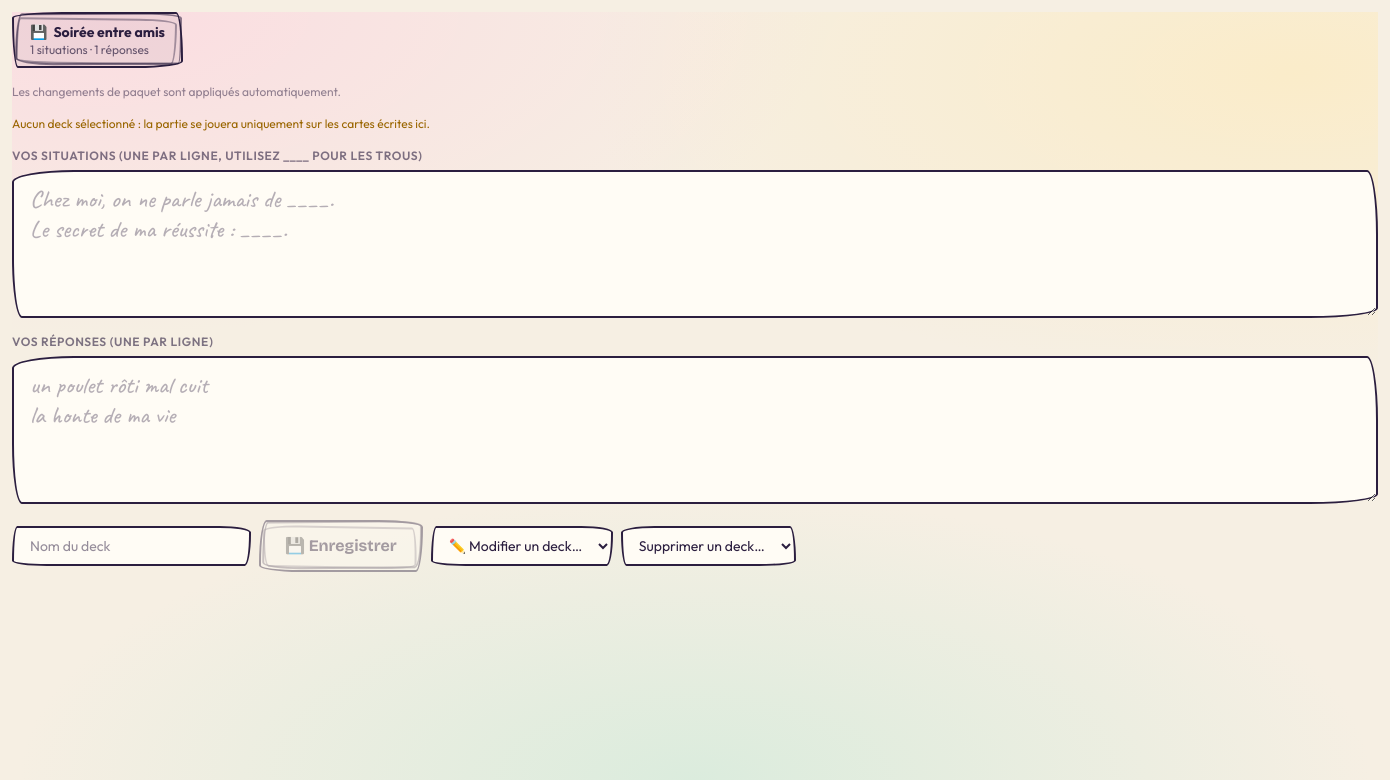
Test: DeckBuilder › keeps the deck when the host backs out
Step 1. Select "Soirée entre amis" in the dropdown named "Supprimer un deck enregistré" → (708, 546), box [621, 526, 796, 566]
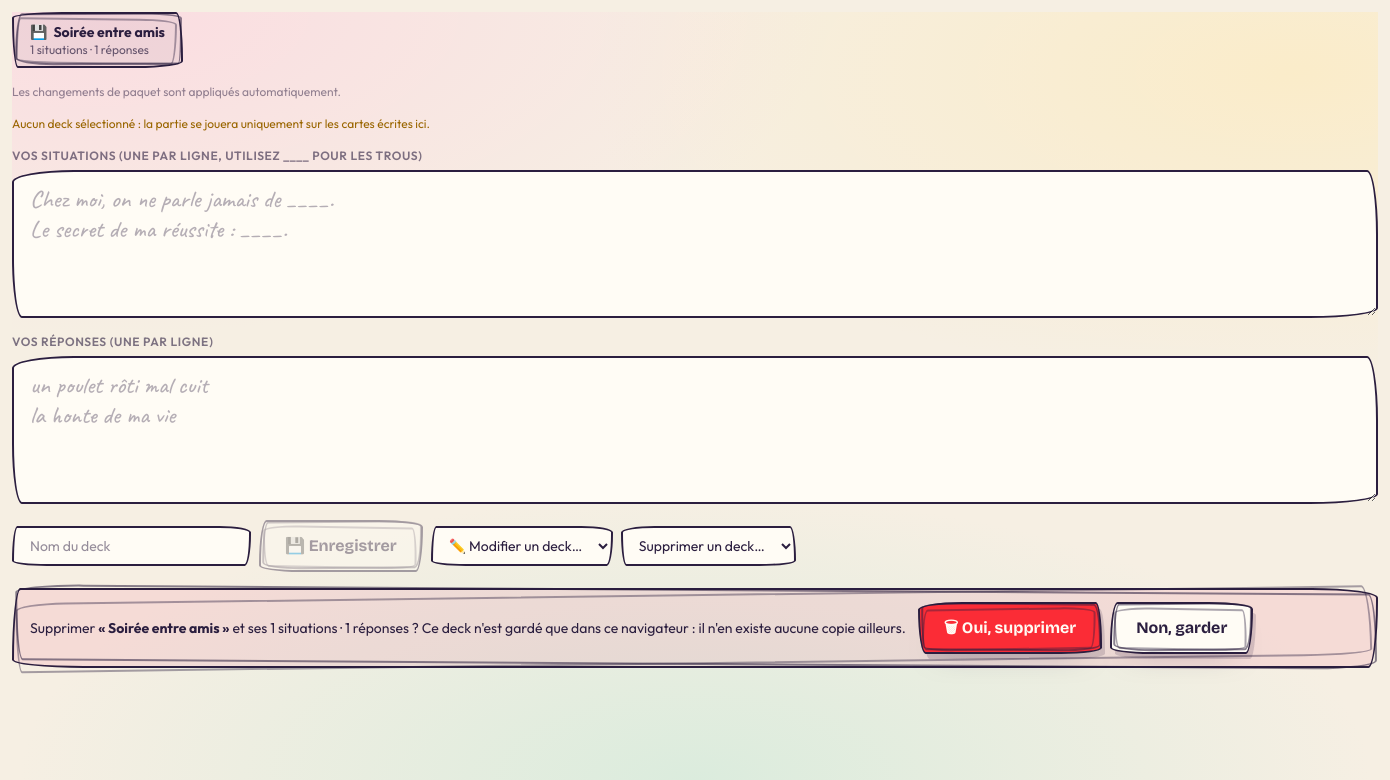
Step 2. Click the button "Non, garder" → (1182, 628), box [1110, 602, 1253, 654]
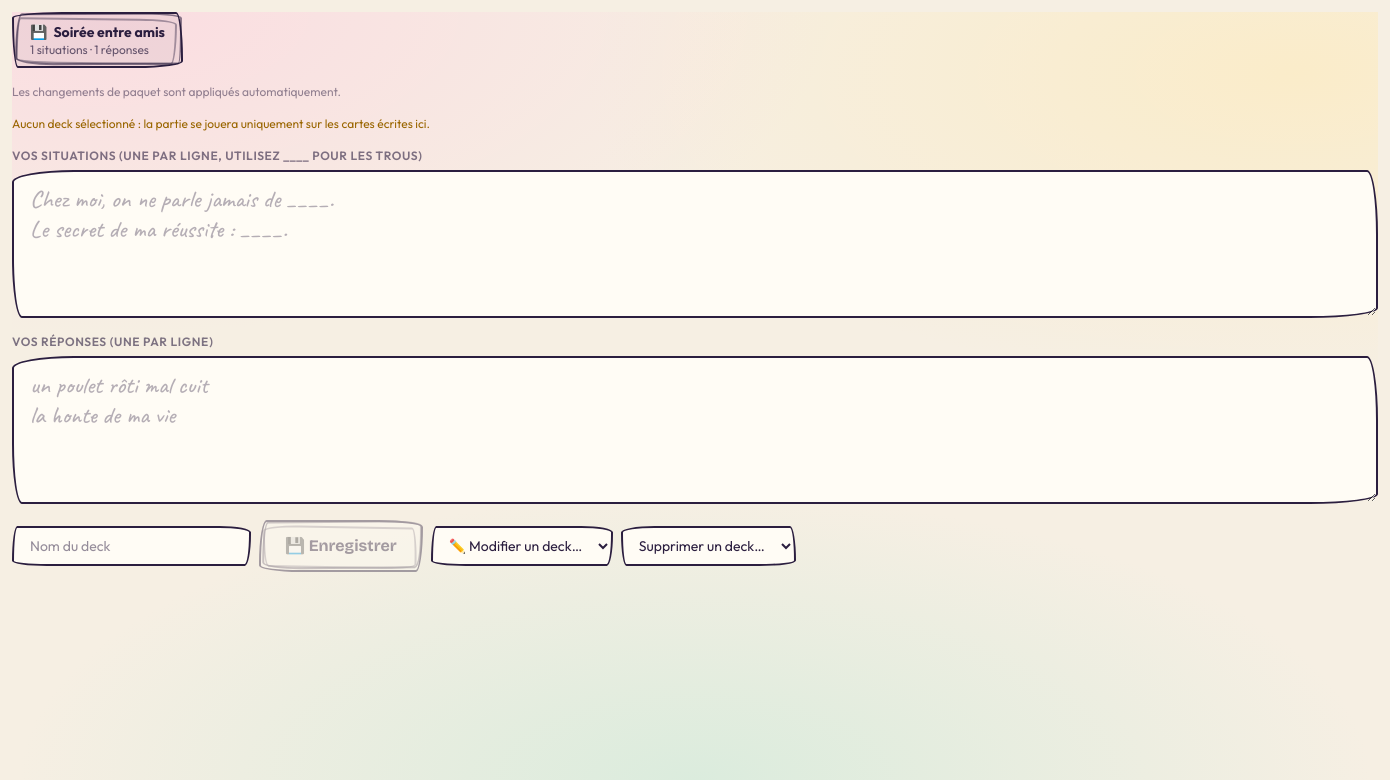
Check: the message is gone
